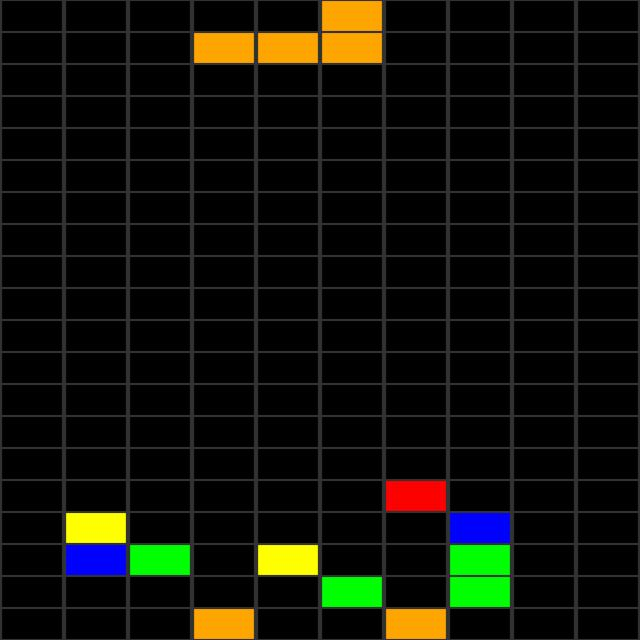Tetrimino_I: (192, 1, 384, 63)
